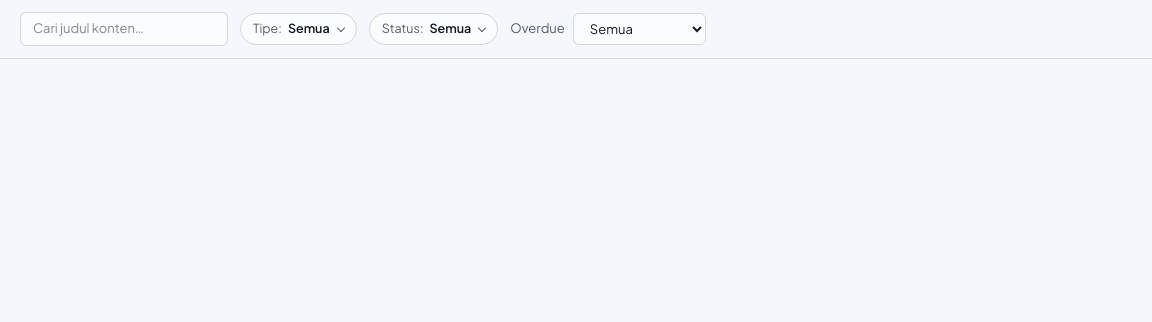
Test case: CreatorContentFilters › keeps the first status when a second is ticked before the address has changed
Click the button "Status: Semua": (434, 29) [369,13,498,45]
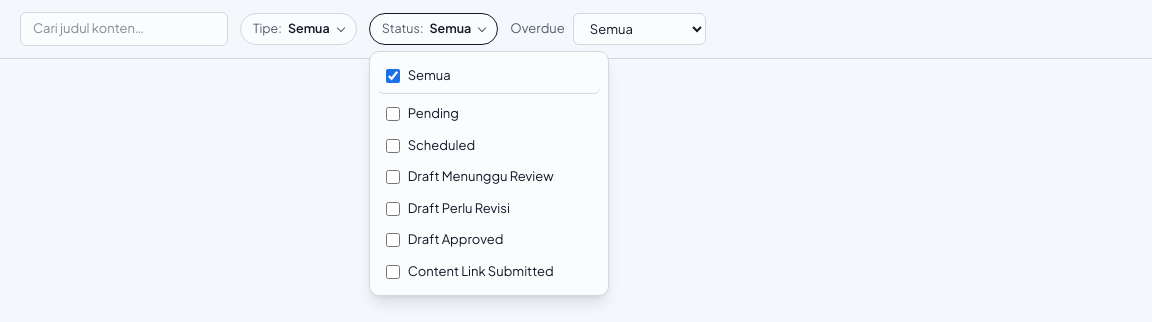
Click the checkbox labelled "Scheduled": (393, 146) [386,138,400,152]
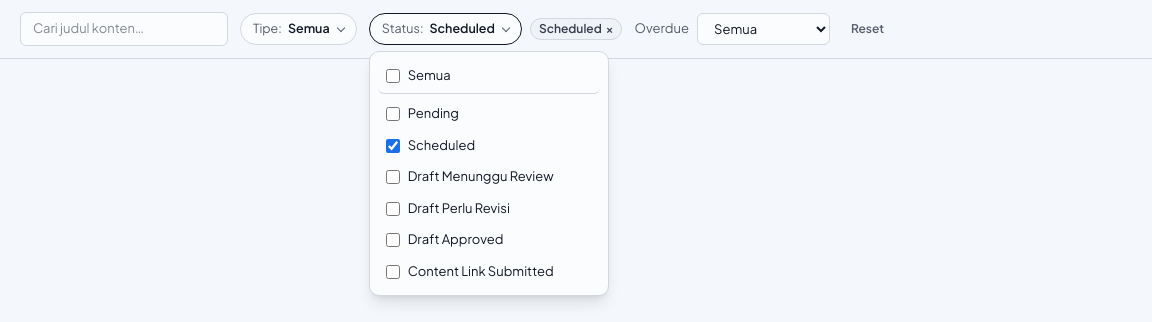
Click the checkbox labelled "Pending": (393, 114) [386,107,400,121]
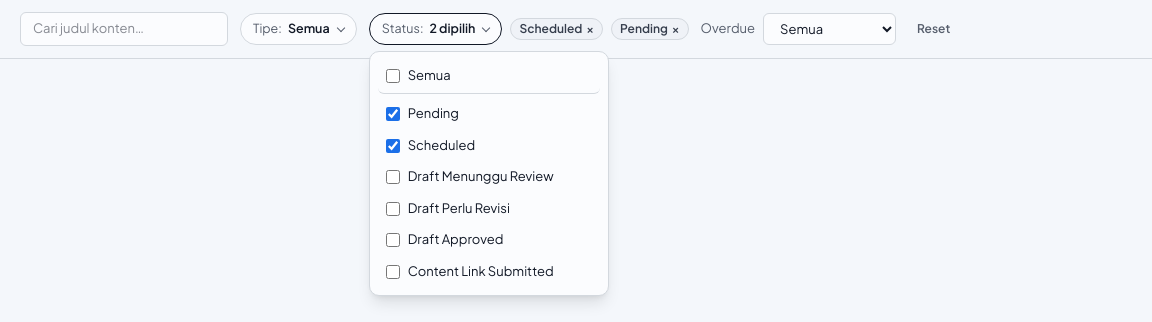
Expected: the button "Status: 2 dipilih" is shown, [369,13,502,45]
